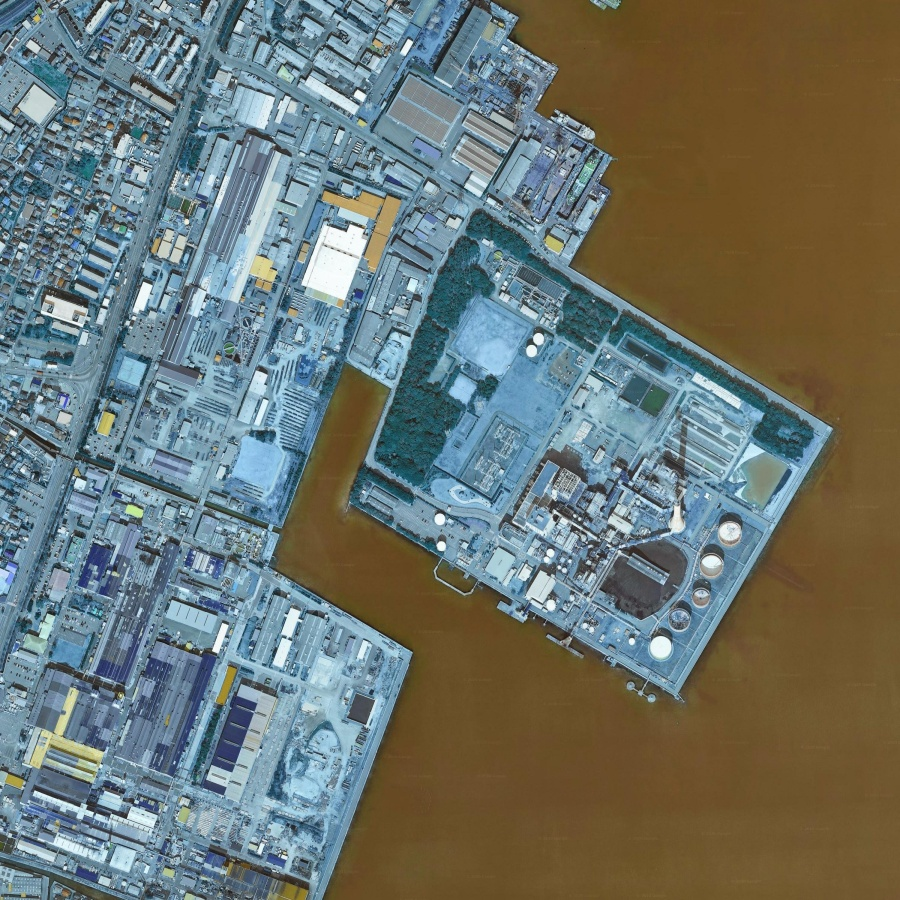PowerPlant: (428, 374, 797, 693)
